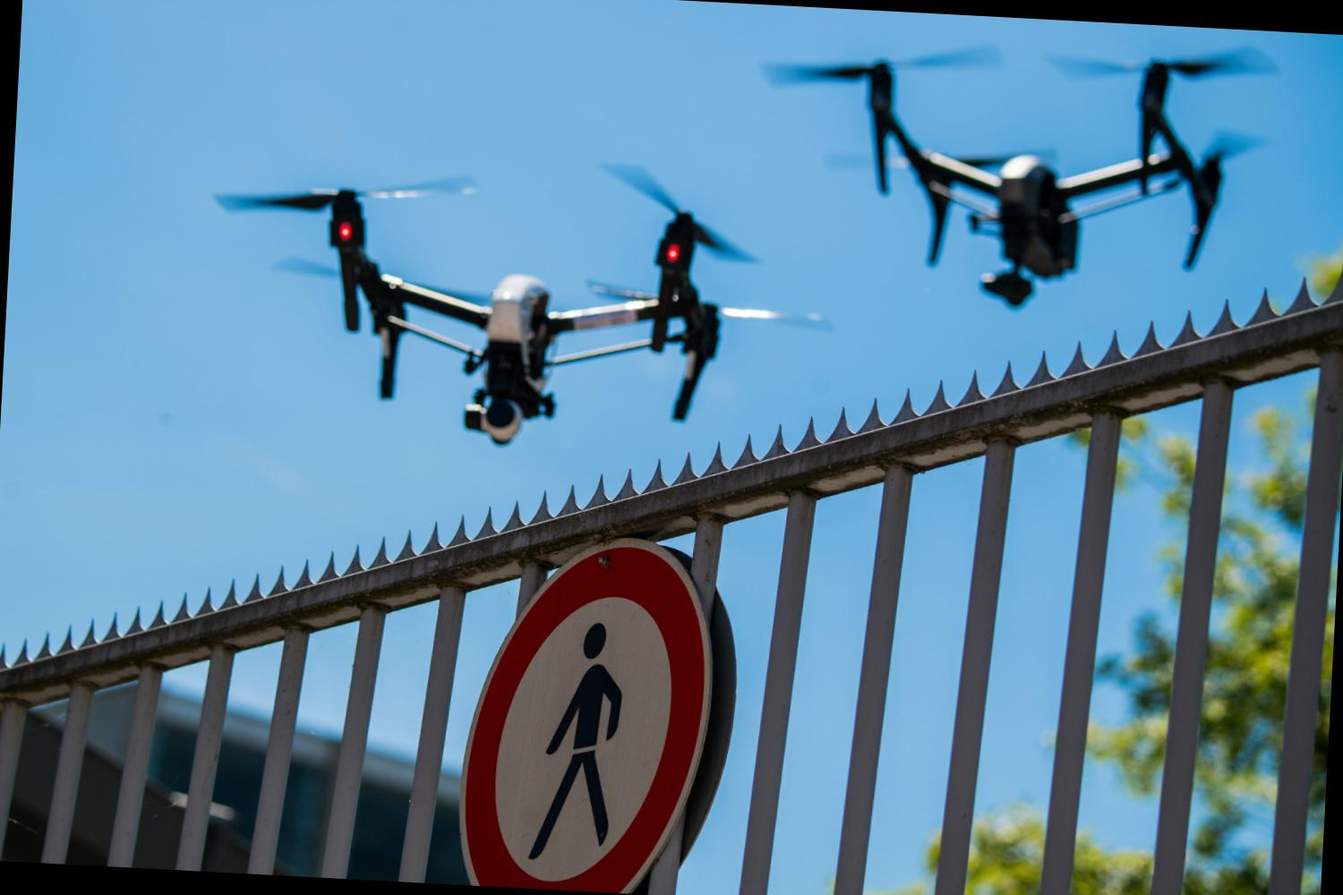drone: (218, 125, 808, 458), (722, 24, 1281, 296)
